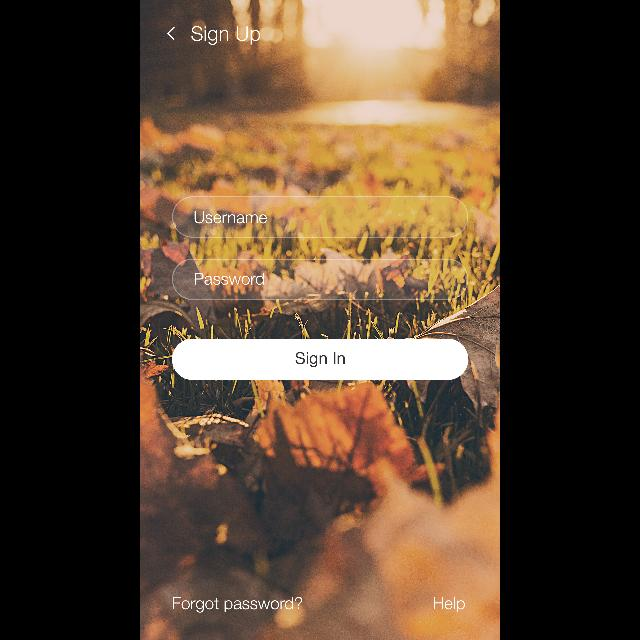backgroundimage: (140, 1, 500, 640)
icon: (167, 27, 175, 41)
input: (172, 196, 468, 238), (172, 260, 468, 300)
text: (174, 597, 302, 613), (192, 27, 260, 46), (195, 212, 267, 224), (196, 273, 264, 285), (434, 598, 464, 612)
textbutton: (172, 340, 468, 380)
